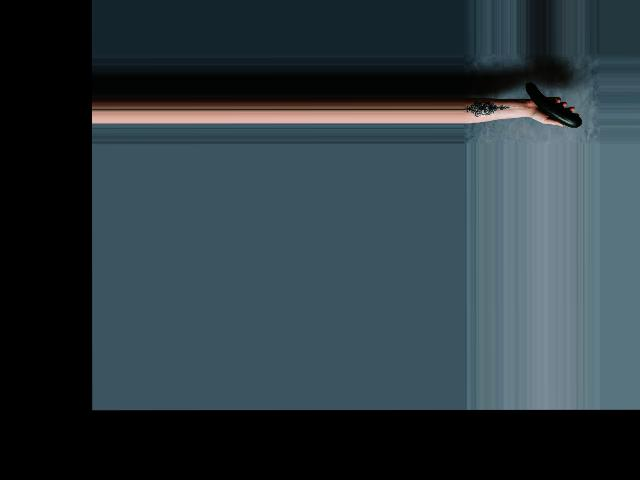cucumber: (526, 82, 582, 127)
